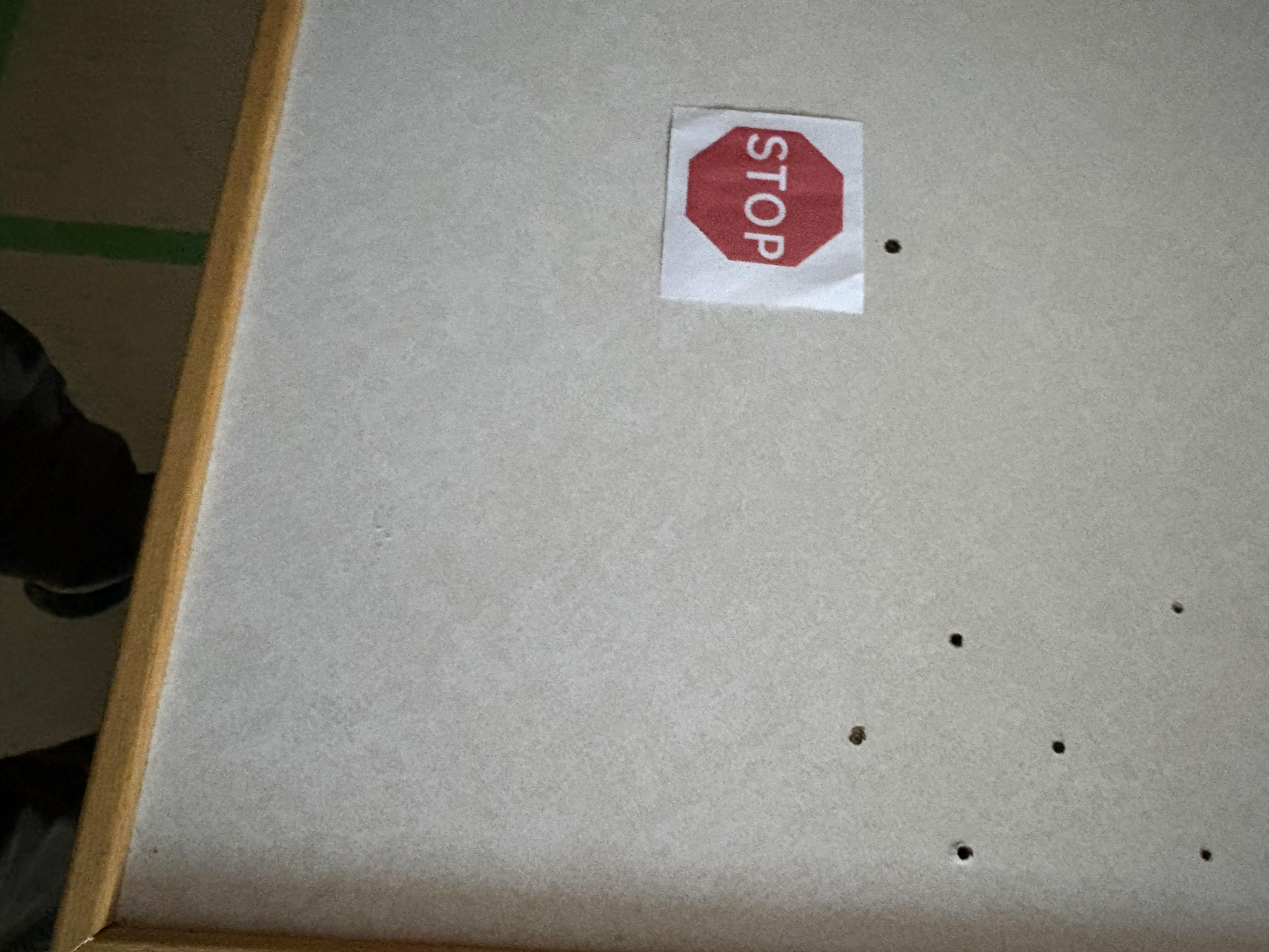Stop: (661, 107, 866, 313)
